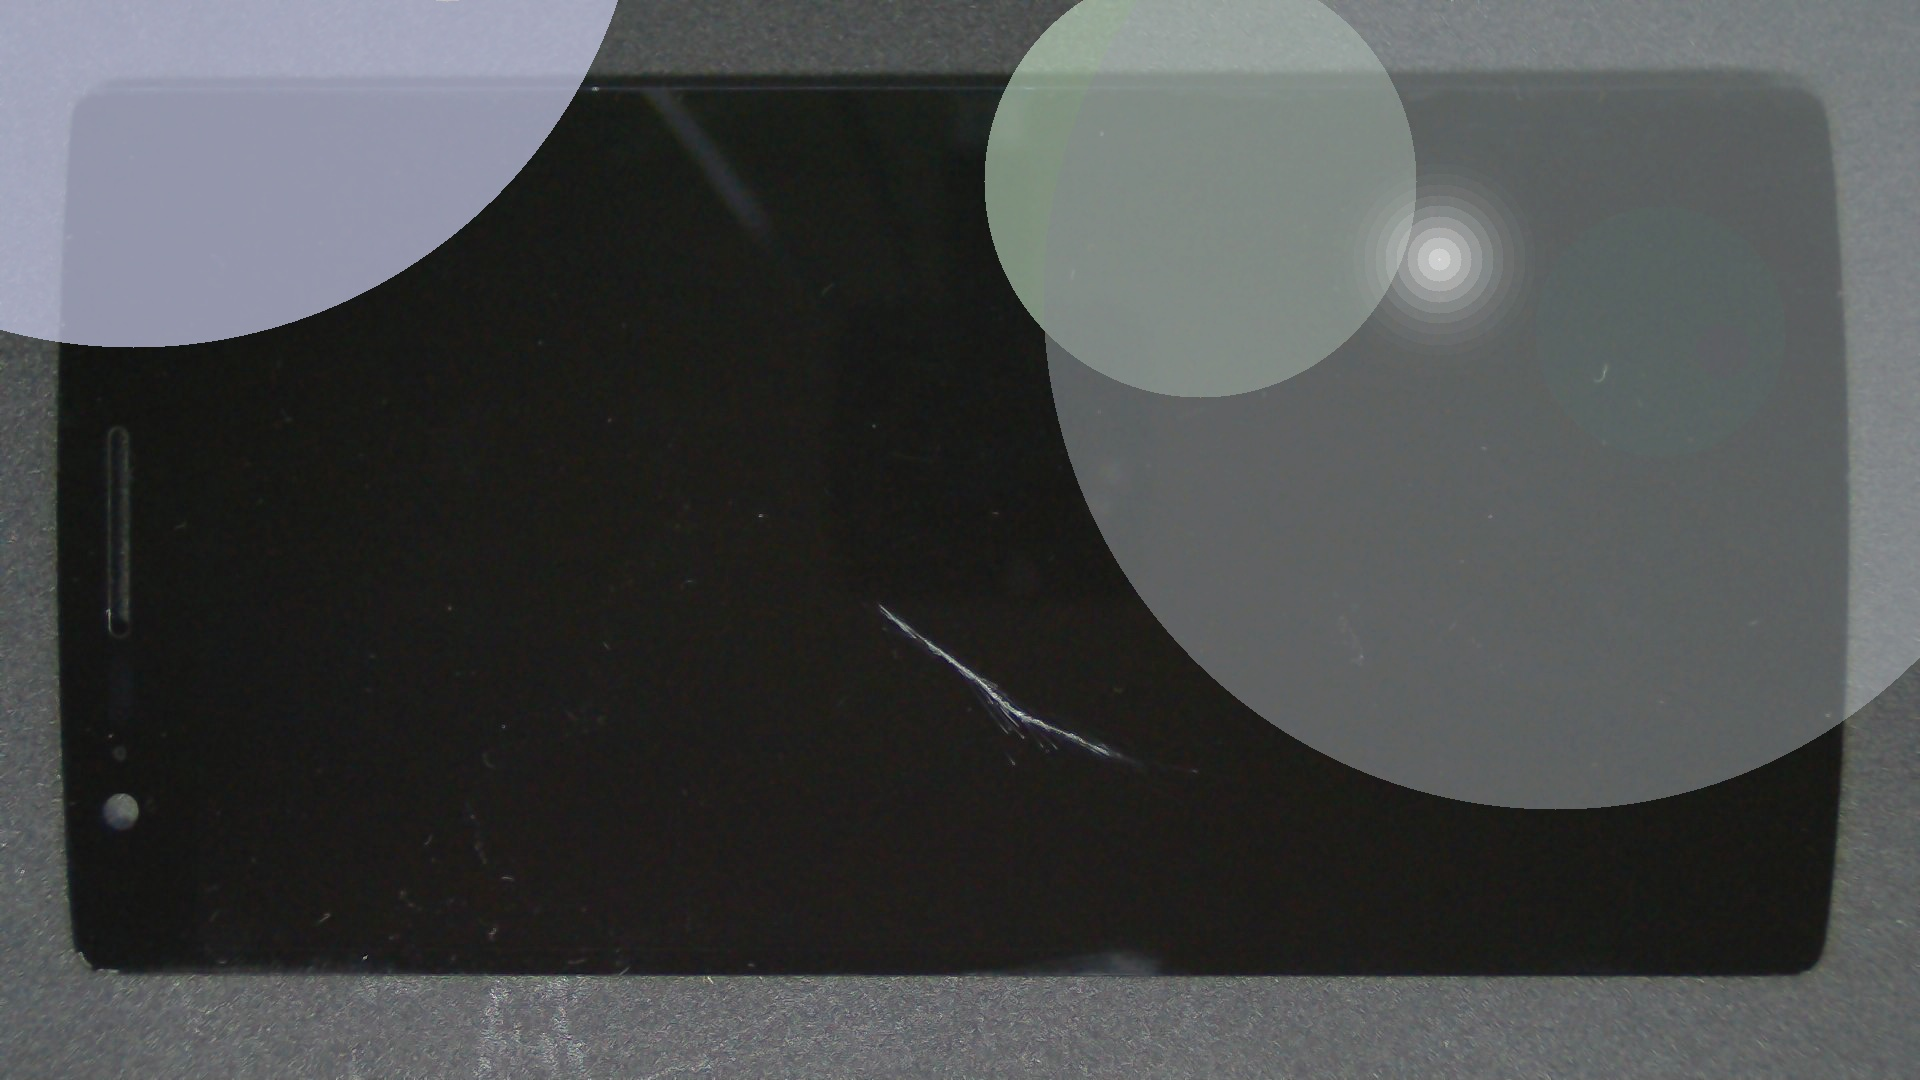oil: (440, 301, 1317, 905)
